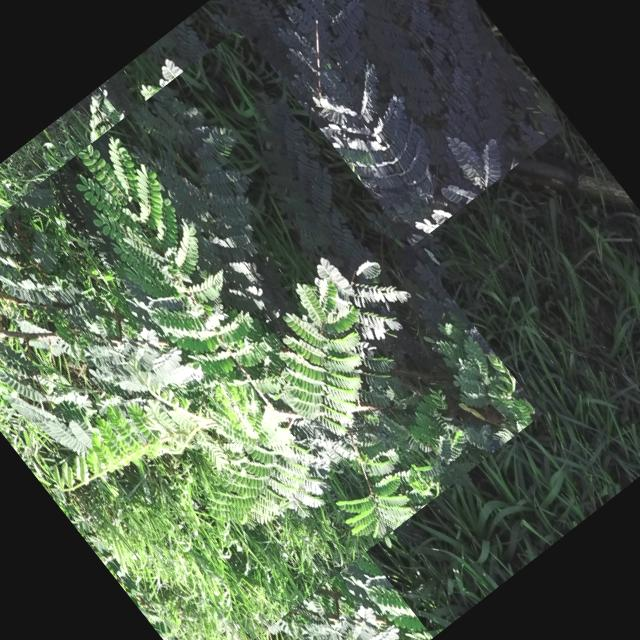Mysore-Thorn-Weed: (0, 27, 543, 640), (99, 0, 565, 338), (48, 357, 433, 640)
